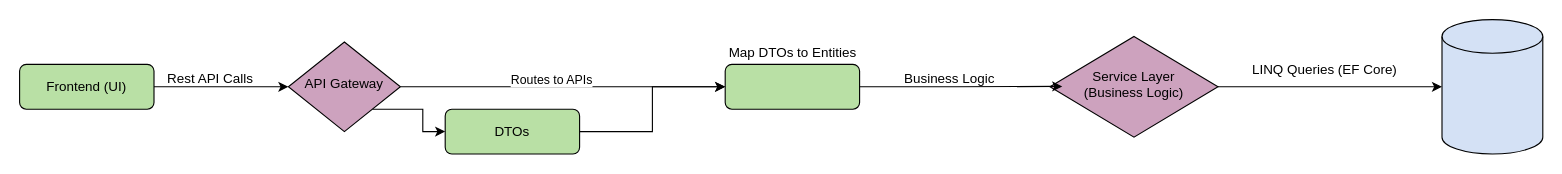
The diagram is 1562 pixels wide and 174 high, and some of its shapes have lost their labels. Here are the shapes that lost their labels. From the top down, the centre of each, then its label:
At point 792,86: "Controller Layer".
At point 1492,86: "MySQL Database (Containerized)".
